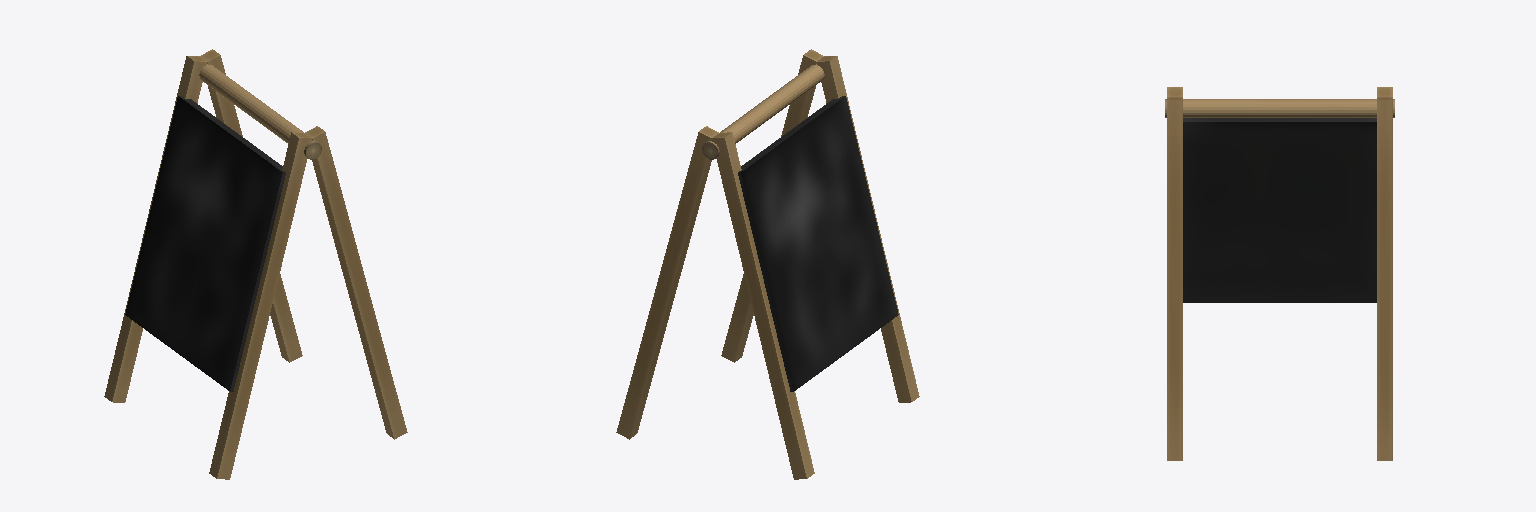
The picture shows the model from 3 angles: view 1: azimuth 30°, elevation 25°; view 2: azimuth 150°, elevation 25°; view 3: azimuth 270°, elevation 25°; orthographic projection.
Parts seen in each view (by area): view 1: _Standingplate:pCube7 group62, group62 _Standingplate:pCube3, group62 _Standingplate:pCube5, group62 _Standingplate:pCube2, group62 _Standingplate:pCube4, group62 _Standingplate:pCylinder1; view 2: _Standingplate:pCube7 group62, group62 _Standingplate:pCube2, group62 _Standingplate:pCube4, group62 _Standingplate:pCube3, group62 _Standingplate:pCube5, group62 _Standingplate:pCylinder1; view 3: _Standingplate:pCube7 group62, group62 _Standingplate:pCube4, group62 _Standingplate:pCube5, group62 _Standingplate:pCylinder1.
Part boxes in pixels (x1,y1,x2,y2): _Standingplate:pCube7 group62: (125,96,285,391); group62 _Standingplate:pCube3: (209,132,311,479); group62 _Standingplate:pCube5: (305,126,407,439); group62 _Standingplate:pCube2: (104,56,206,402); group62 _Standingplate:pCube4: (200,49,302,362); group62 _Standingplate:pCylinder1: (199,64,321,159); _Standingplate:pCube7 group62: (738,96,898,391); group62 _Standingplate:pCube2: (712,132,814,479); group62 _Standingplate:pCube4: (616,126,718,439); group62 _Standingplate:pCube3: (817,56,919,402); group62 _Standingplate:pCube5: (721,49,823,362); group62 _Standingplate:pCylinder1: (702,64,824,159); _Standingplate:pCube7 group62: (1183,118,1376,302); group62 _Standingplate:pCube4: (1377,97,1392,460); group62 _Standingplate:pCube5: (1167,97,1182,460); group62 _Standingplate:pCylinder1: (1165,99,1394,117).
Bounding box in the file's own units: 42.02 × 68.39 × 44.
Materials: 1 (1 with a texture image).